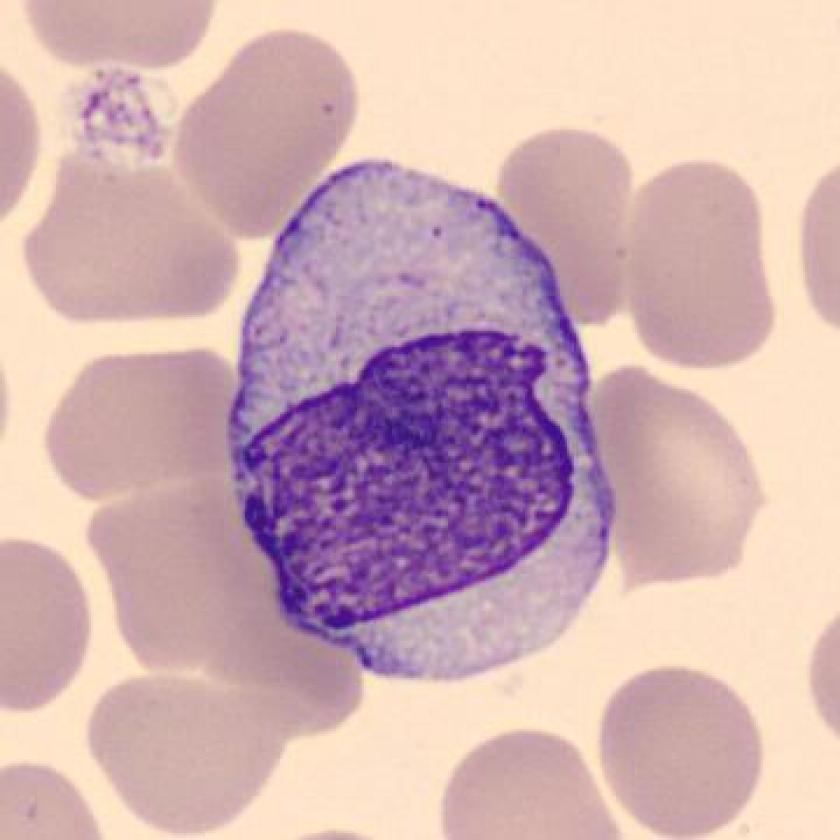monocyte: (218, 140, 645, 704)
